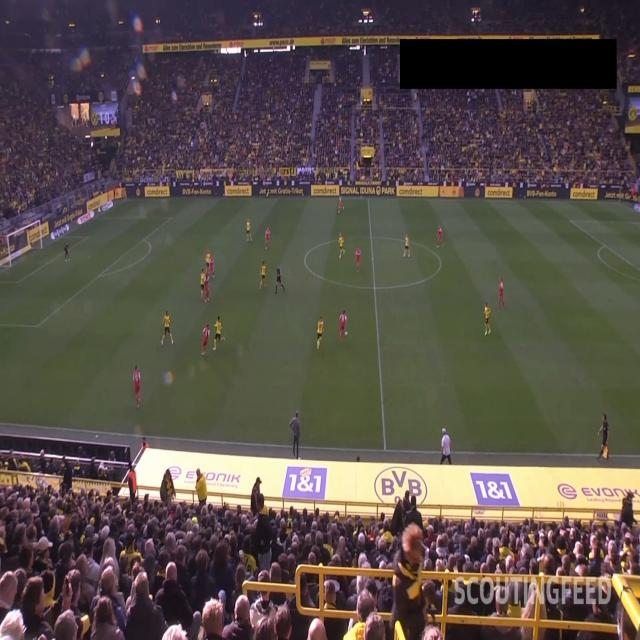ball: (344, 328, 351, 339)
f_player: (212, 312, 225, 354), (160, 312, 173, 352), (132, 365, 143, 410), (482, 297, 492, 343), (335, 231, 346, 267), (314, 312, 324, 350), (496, 273, 505, 313), (352, 246, 362, 279), (202, 320, 210, 360), (204, 268, 212, 308), (402, 233, 411, 266), (199, 264, 206, 304), (436, 222, 444, 256), (64, 237, 72, 271), (338, 309, 346, 342), (264, 224, 272, 255), (244, 215, 252, 245), (259, 259, 266, 293), (209, 254, 217, 278), (336, 190, 341, 228), (204, 248, 210, 278)
umpire: (593, 412, 613, 462), (274, 264, 286, 300)
